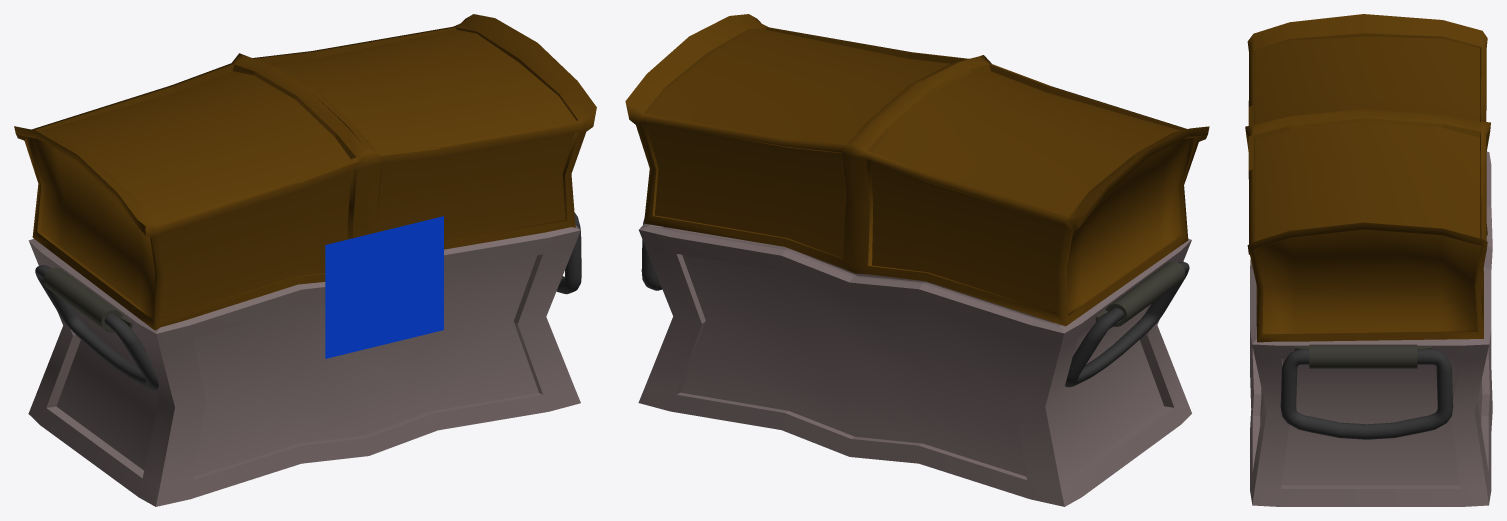
The model's file is Treasure chest.fbx.
3 renders of one model, left to right at view 1: azimuth 30°, elevation 25°; view 2: azimuth 150°, elevation 25°; view 3: azimuth 270°, elevation 25°, orthographic. The views are drawn at different scales.
Visible parts, largest first — view 1: top, Bottem, lock, grip (×2), grip base; view 2: top, Bottem, grip, grip base; view 3: top, Bottem, grip, grio base.
Part boxes in pixels (left/top/right/bottom): top: left=14, top=14, right=596, bottom=330; Bottem: left=28, top=225, right=580, bottom=506; lock: left=325, top=216, right=443, bottom=358; grip (×2): left=35, top=213, right=581, bottom=390; grip base: left=43, top=267, right=132, bottom=332; top: left=625, top=14, right=1209, bottom=326; Bottem: left=638, top=223, right=1191, bottom=506; grip: left=1065, top=261, right=1189, bottom=387; grip base: left=1095, top=261, right=1185, bottom=326; top: left=1245, top=14, right=1490, bottom=342; Bottem: left=1250, top=151, right=1492, bottom=506; grip: left=1280, top=349, right=1453, bottom=439; grio base: left=1294, top=344, right=1431, bottom=368.
Bounding box in the file's own units: 62.3 × 40.84 × 31.31.
